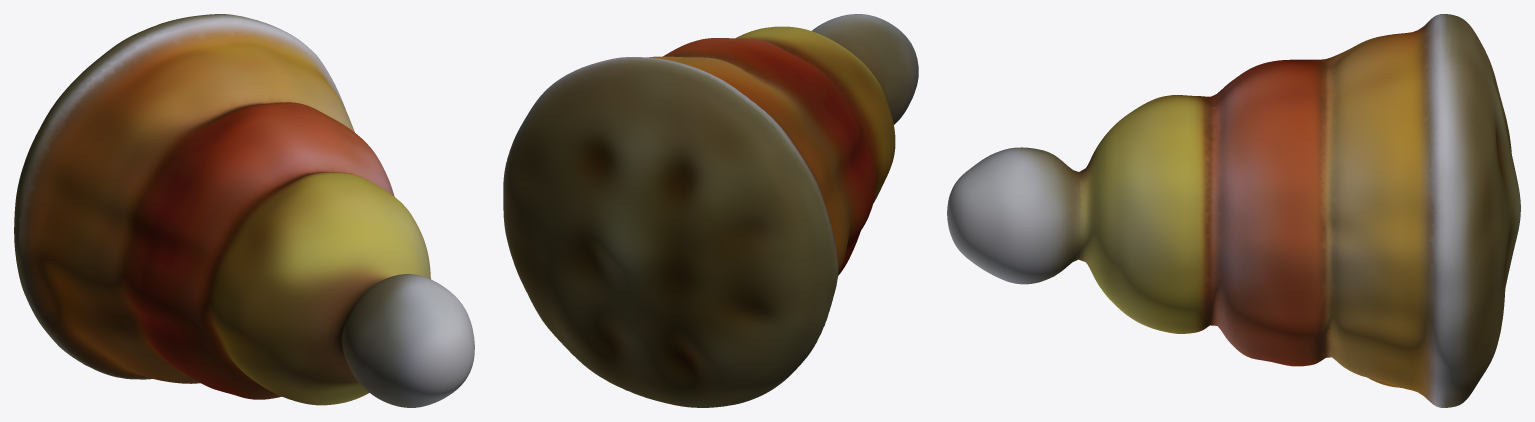
Rendered from chicken.glb.
The picture shows the model from 3 angles, left to right: view 1: azimuth 30°, elevation 25°; view 2: azimuth 150°, elevation 25°; view 3: azimuth 270°, elevation 25°; orthographic projection. The views are drawn at different scales.
Bounding box in the file's own units: 0.6862 × 0.6838 × 0.9998.
